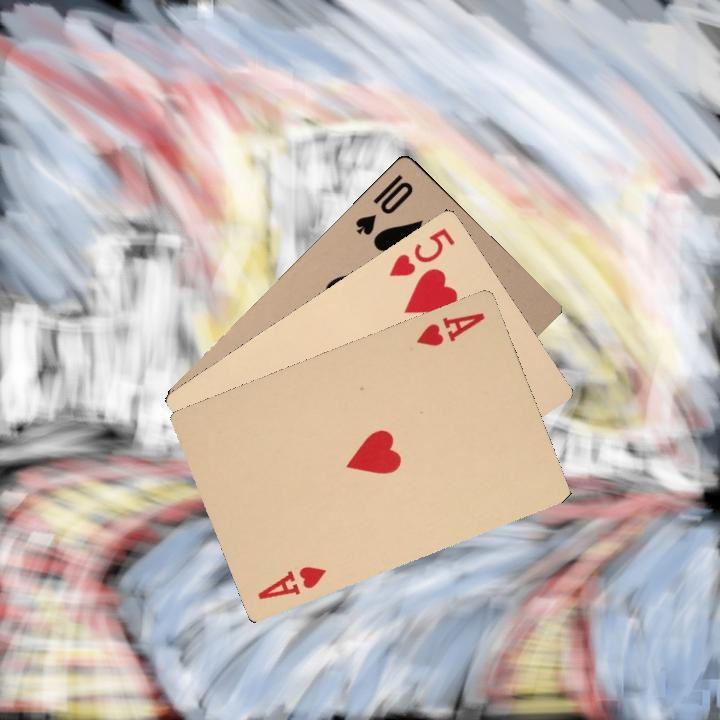10s: (351, 170, 416, 238)
5h: (384, 224, 458, 280)
Ah: (412, 308, 488, 349), (253, 562, 329, 602)
